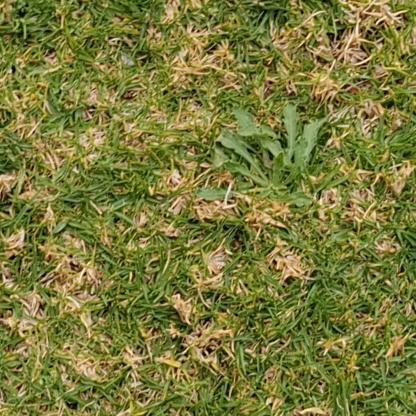Weeds: (197, 105, 326, 208)
